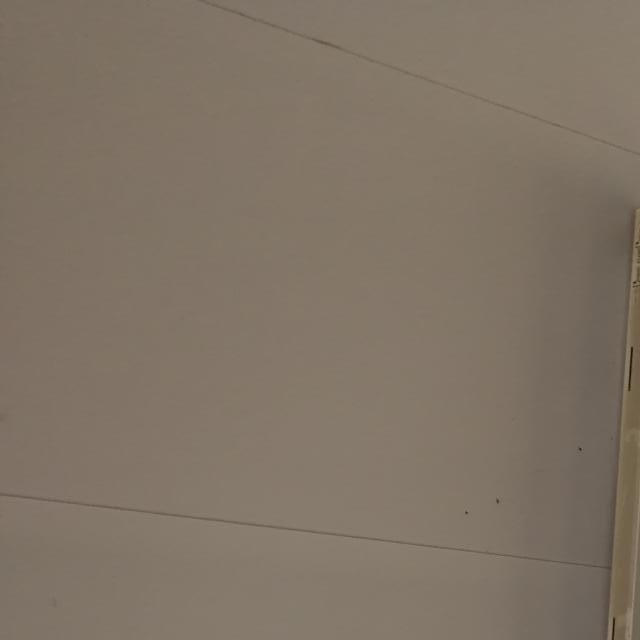fluorescent tube: (552, 182, 640, 640)
